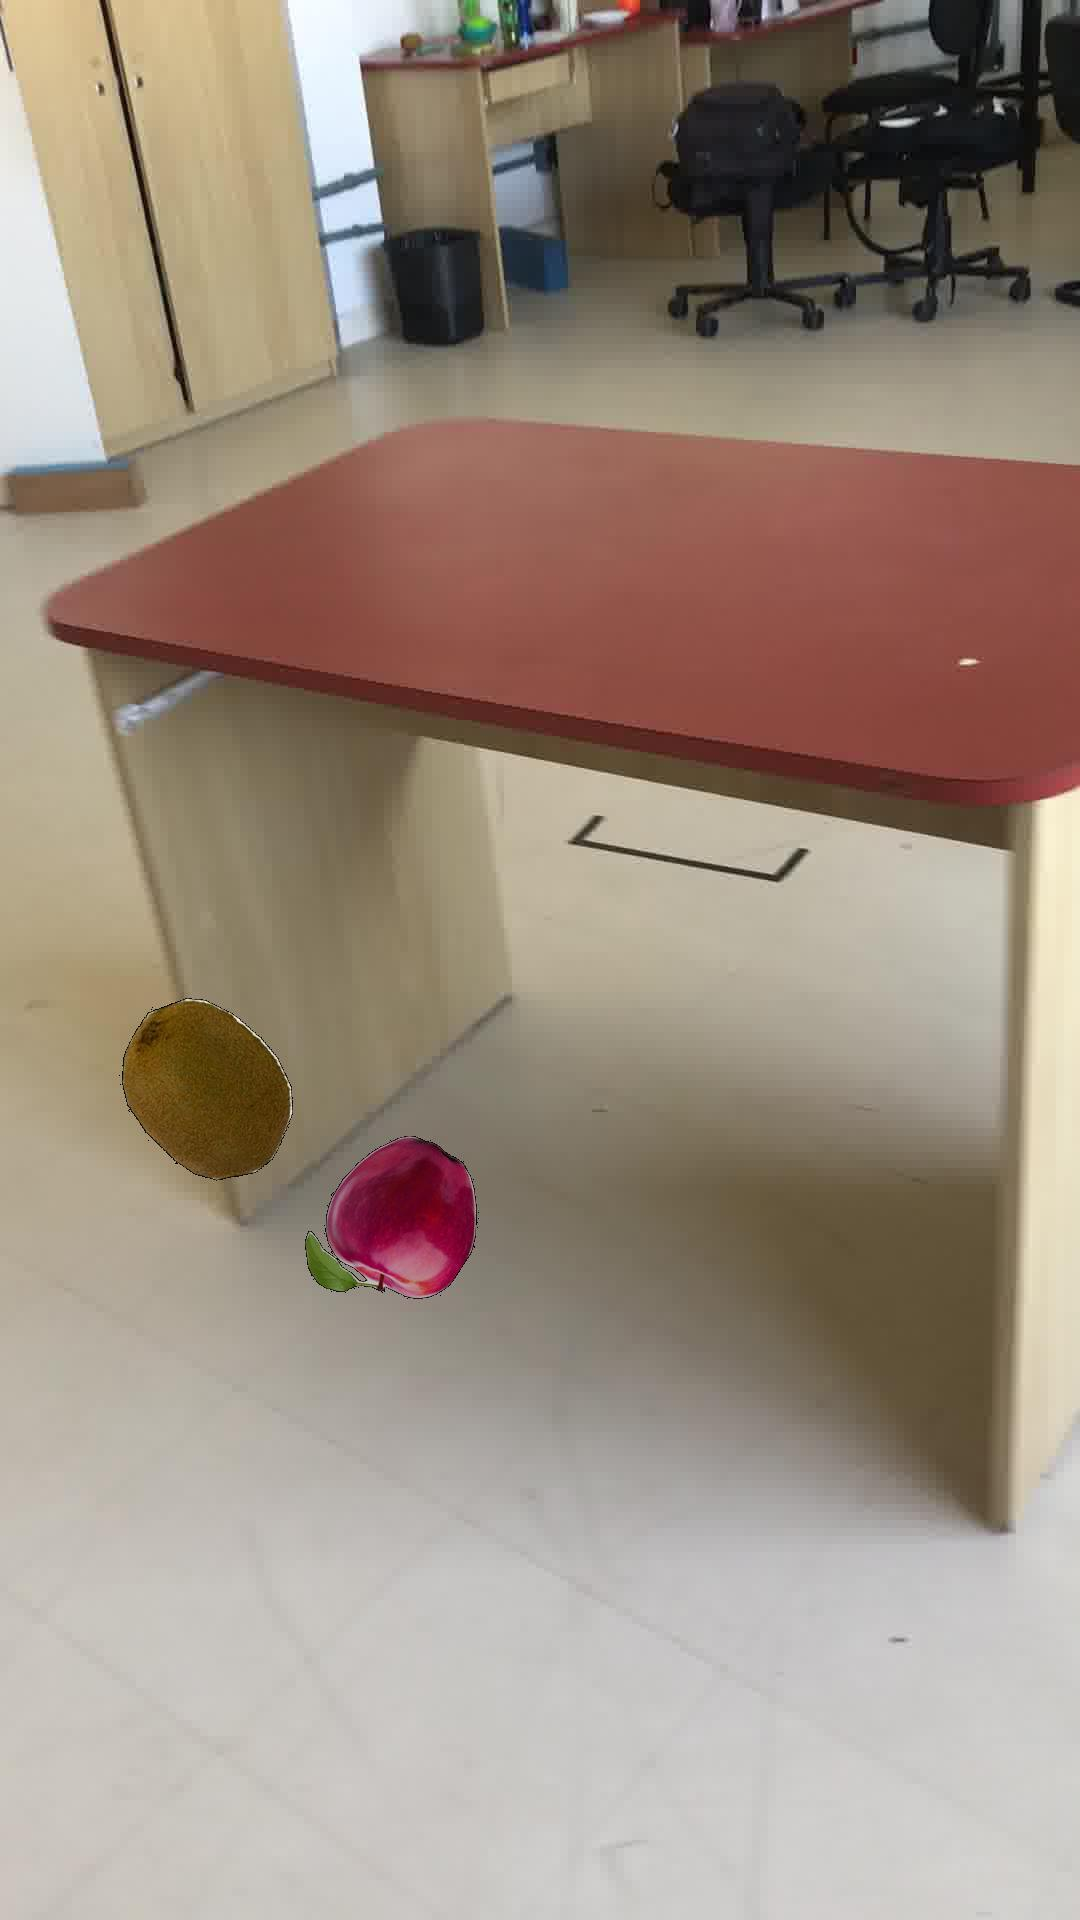apple: (303, 1134, 476, 1298)
kiwi: (120, 997, 291, 1179)
